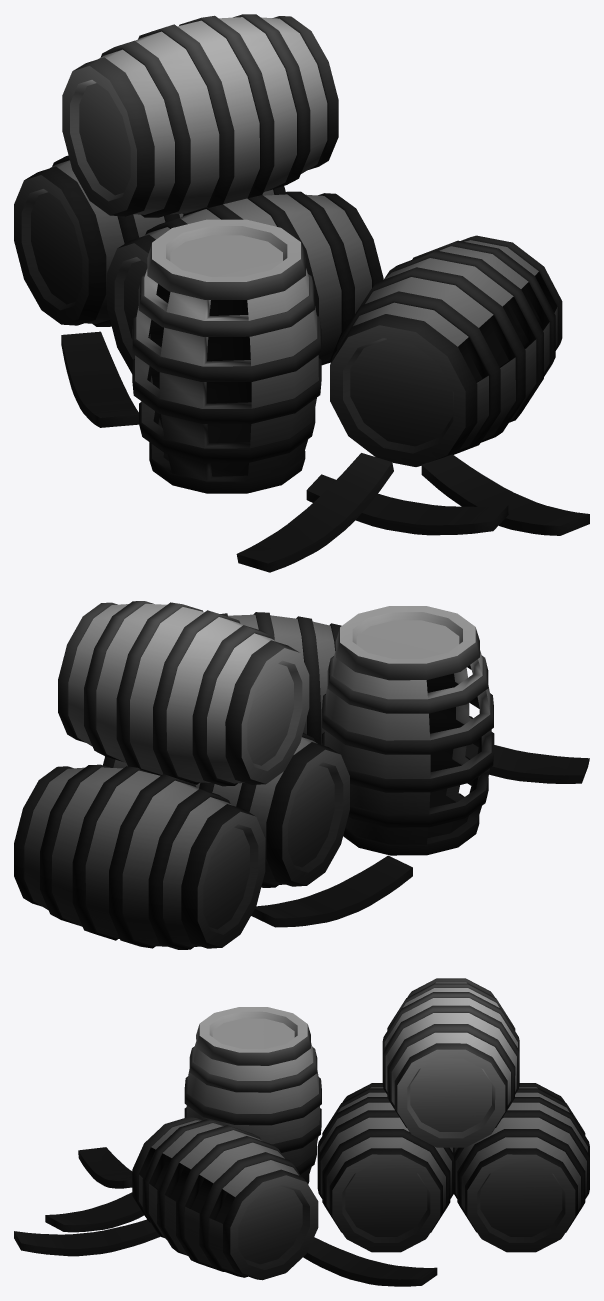
Rendered from Cover8.glb.
3 views of the same model, one above another, from view 1: azimuth 30°, elevation 25°; view 2: azimuth 150°, elevation 25°; view 3: azimuth 270°, elevation 25° (orthographic). The views are drawn at different scales.
Visible parts, largest first — view 1: Cover8; view 2: Cover8; view 3: Cover8.
Part boxes in pixels (left/top/right/bottom): Cover8: left=14, top=14, right=589, bottom=572; Cover8: left=14, top=601, right=589, bottom=949; Cover8: left=14, top=978, right=589, bottom=1286.
Size of what is drawn, in the model's own units: 4.21 by 3.09 by 7.03.
Materials: 1 (1 with a texture image).
